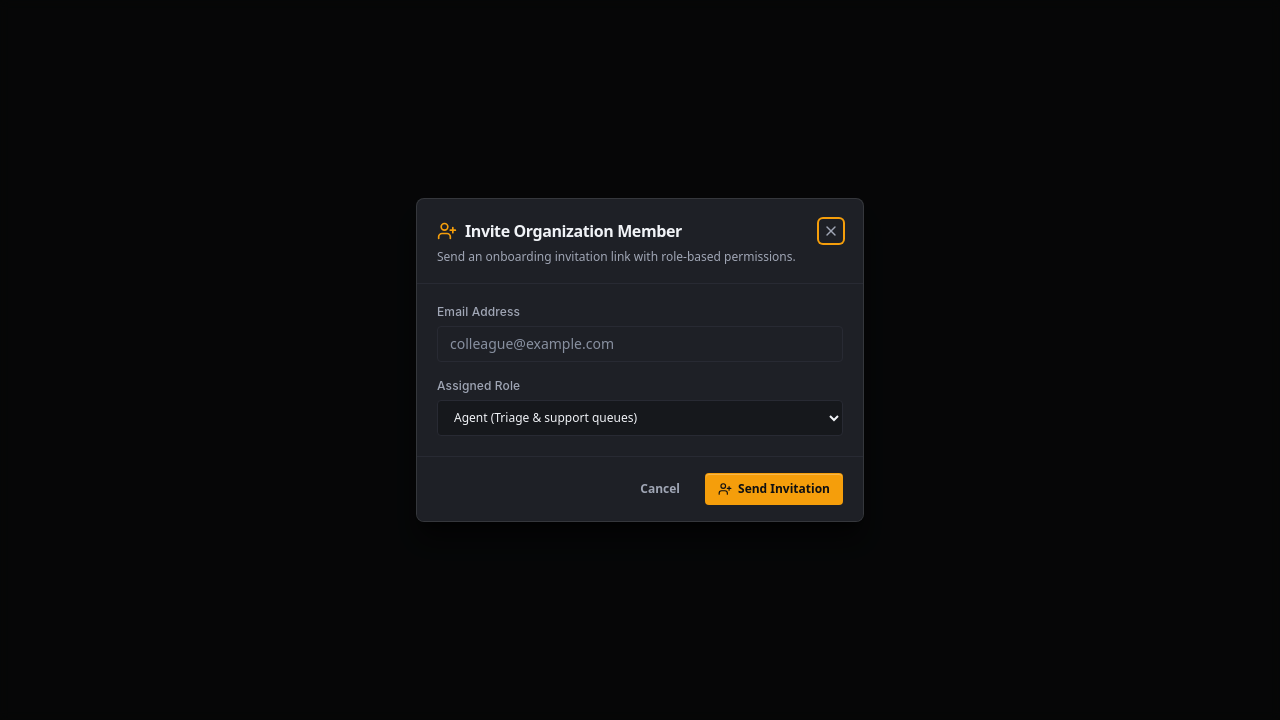
InviteMemberModal Component › validates against existing member or pending invite emails
The width and height of the screenshot is (1280, 720).
Type "ALEX@ACME.CORP" into the field with test id "invite-email-input" at (640, 344), box [437,326,843,362]
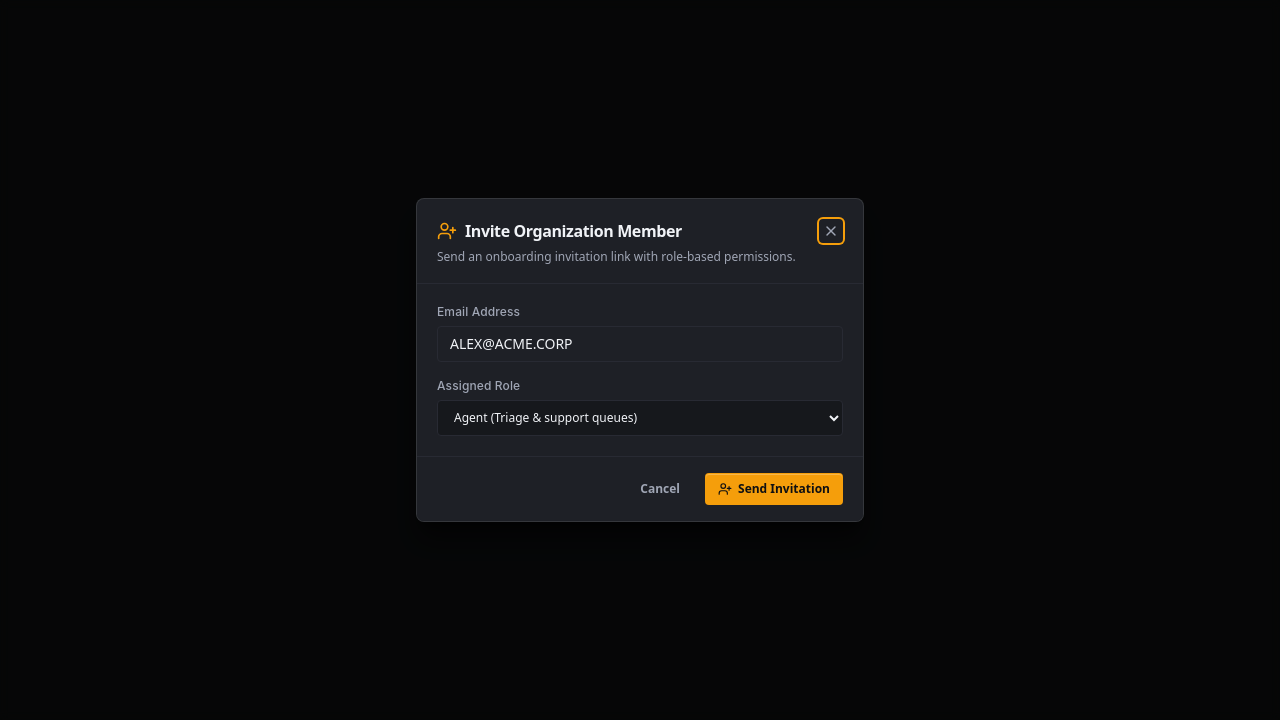
Submit the form with test id "invite-form", box [417,199,863,521]
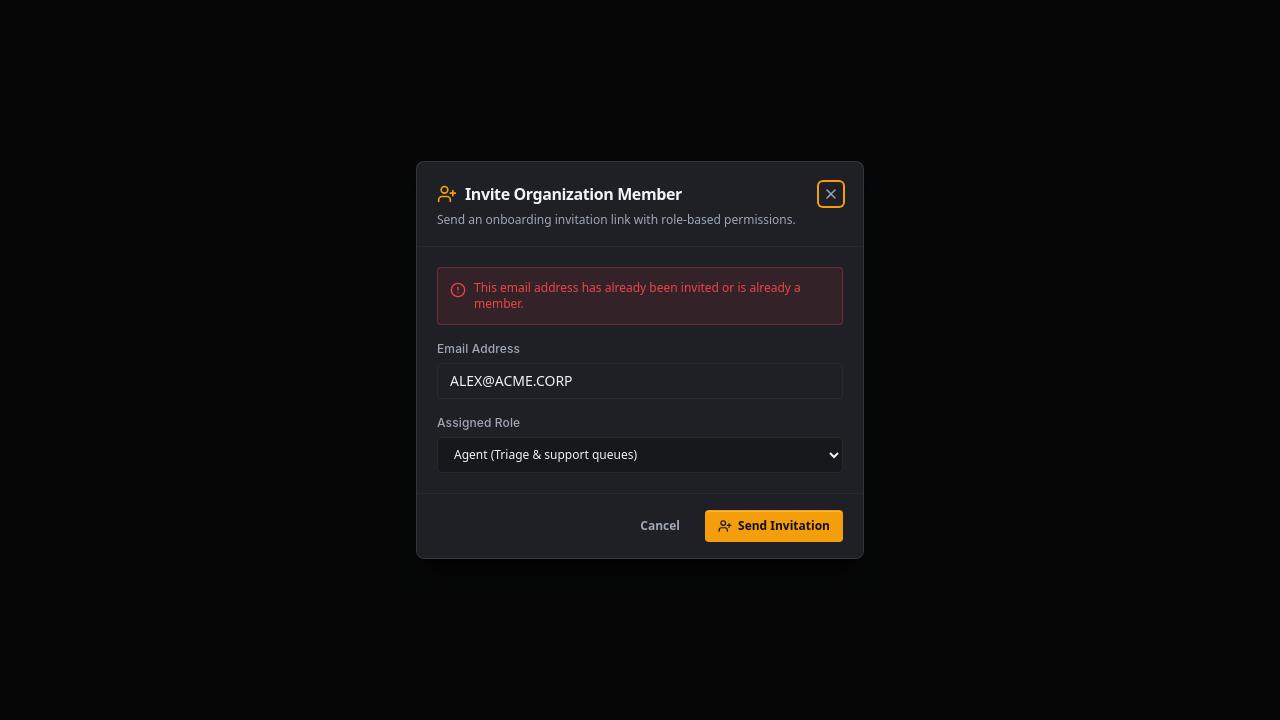
Now the element with test id "invite-error" shows "already been invited or is already a member", box [474,279,801,312]
